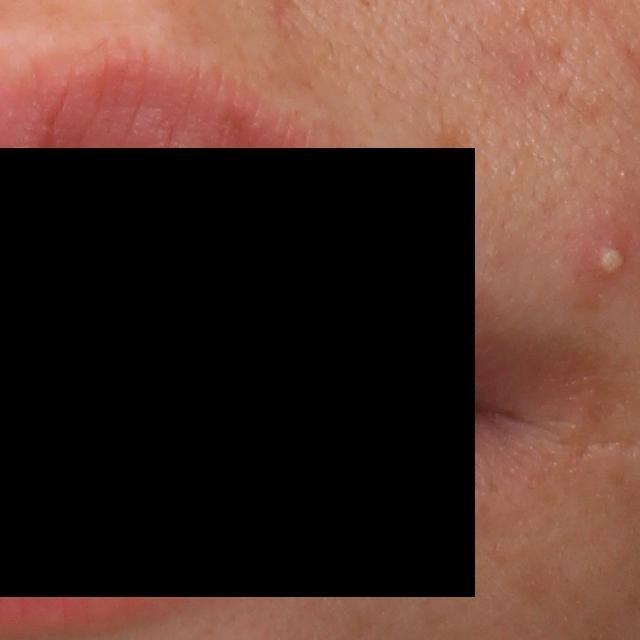pustule: (589, 227, 637, 280)
